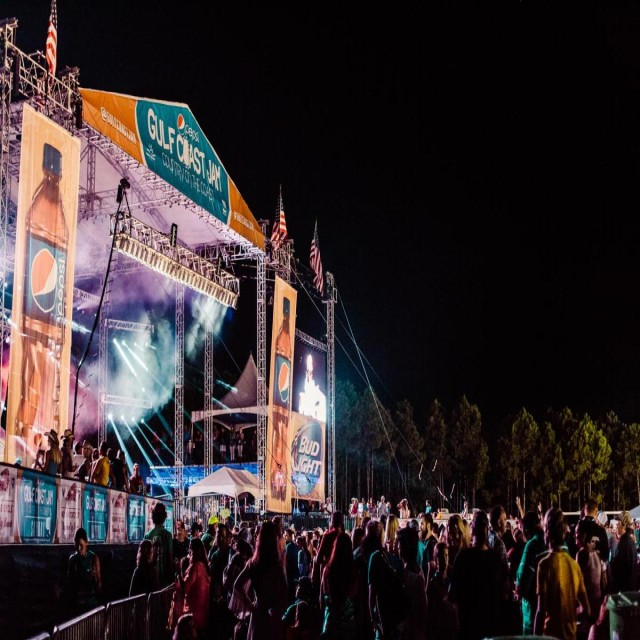pepsi: (30, 246, 60, 314), (276, 359, 292, 405), (176, 110, 187, 136)
